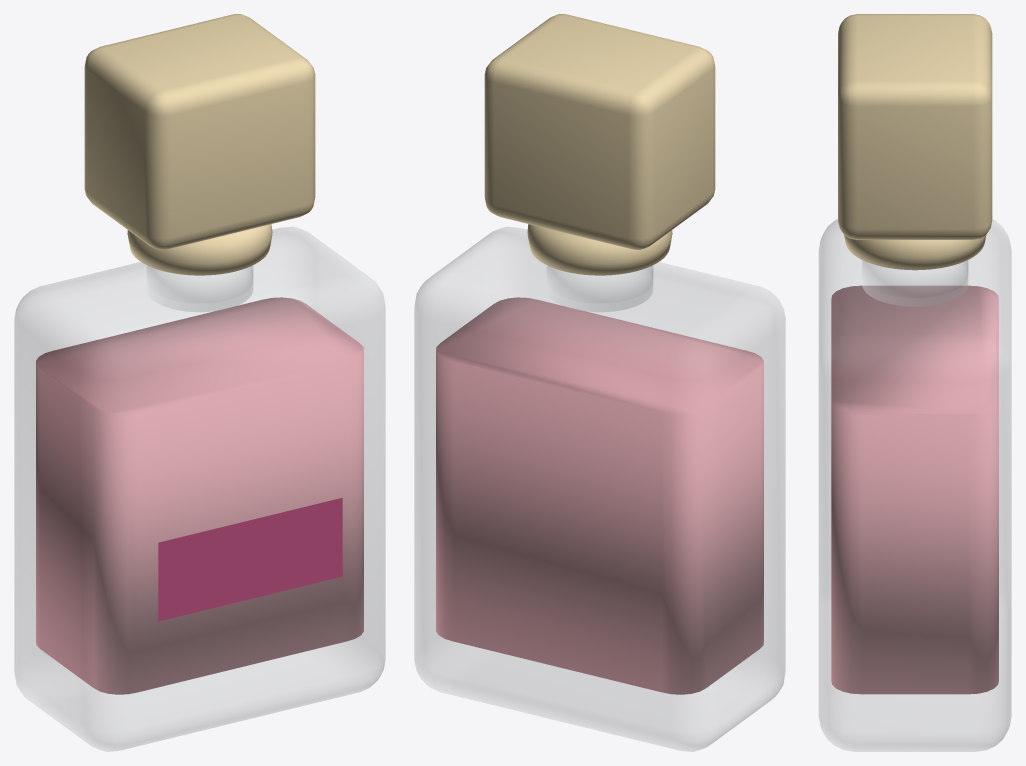
Rendered from qasr.glb.
3 renders of one model, left to right at view 1: azimuth 30°, elevation 25°; view 2: azimuth 150°, elevation 25°; view 3: azimuth 270°, elevation 25°, orthographic.
Parts seen in each view (by area): view 1: Glass, Liquid, Cap, Label, Collar, Neck; view 2: Glass, Liquid, Cap, Collar, Neck; view 3: Glass, Liquid, Cap, Neck, Collar.
Part boxes in pixels (x1,y1,x2,y2): Glass: (14,227,385,751); Liquid: (36,297,363,694); Cap: (84,14,315,249); Label: (158,497,342,621); Collar: (127,224,272,275); Neck: (147,265,252,311); Glass: (414,227,785,751); Liquid: (436,297,763,694); Cap: (484,14,715,249); Collar: (527,224,672,275); Neck: (547,265,652,311); Glass: (819,219,1011,751); Liquid: (831,285,998,694); Cap: (838,14,992,239); Neck: (862,260,967,306); Collar: (844,235,986,270).
Size of the model in its own units: 0.072 by 0.147 by 0.0409.
